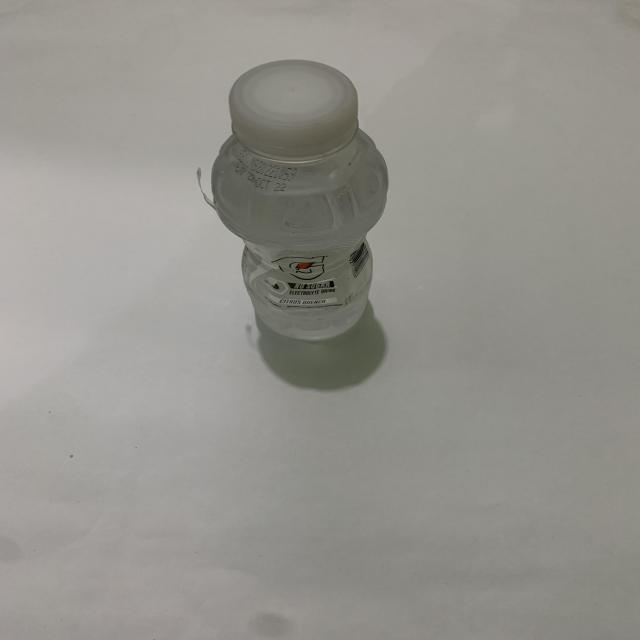bottle: (183, 51, 406, 378)
